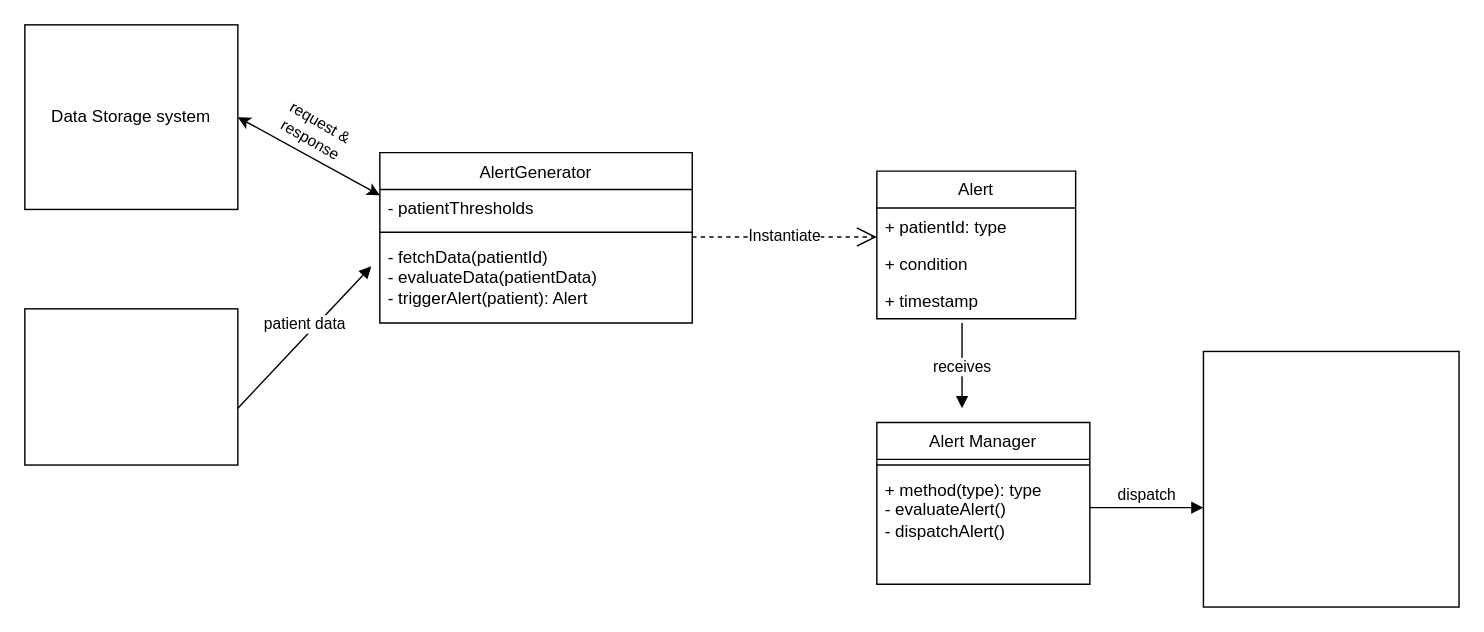
Some shapes in this 1484 by 632 pixel diagram are drawn without their labels. The shapes that lost their labels are listed below. From the top down, each one's centre as x and y in pixels, then its label:
[130,386]: Patient monitoring system
[1330,478]: Notification system
